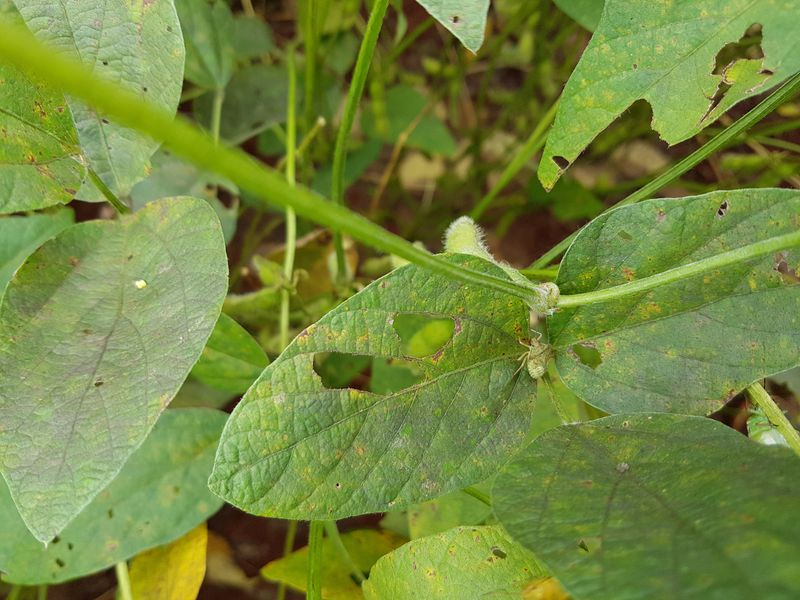Euschistus_heros_ninfa: (505, 326, 568, 392)
Nezara_viridula_adulto: (733, 388, 800, 461)
